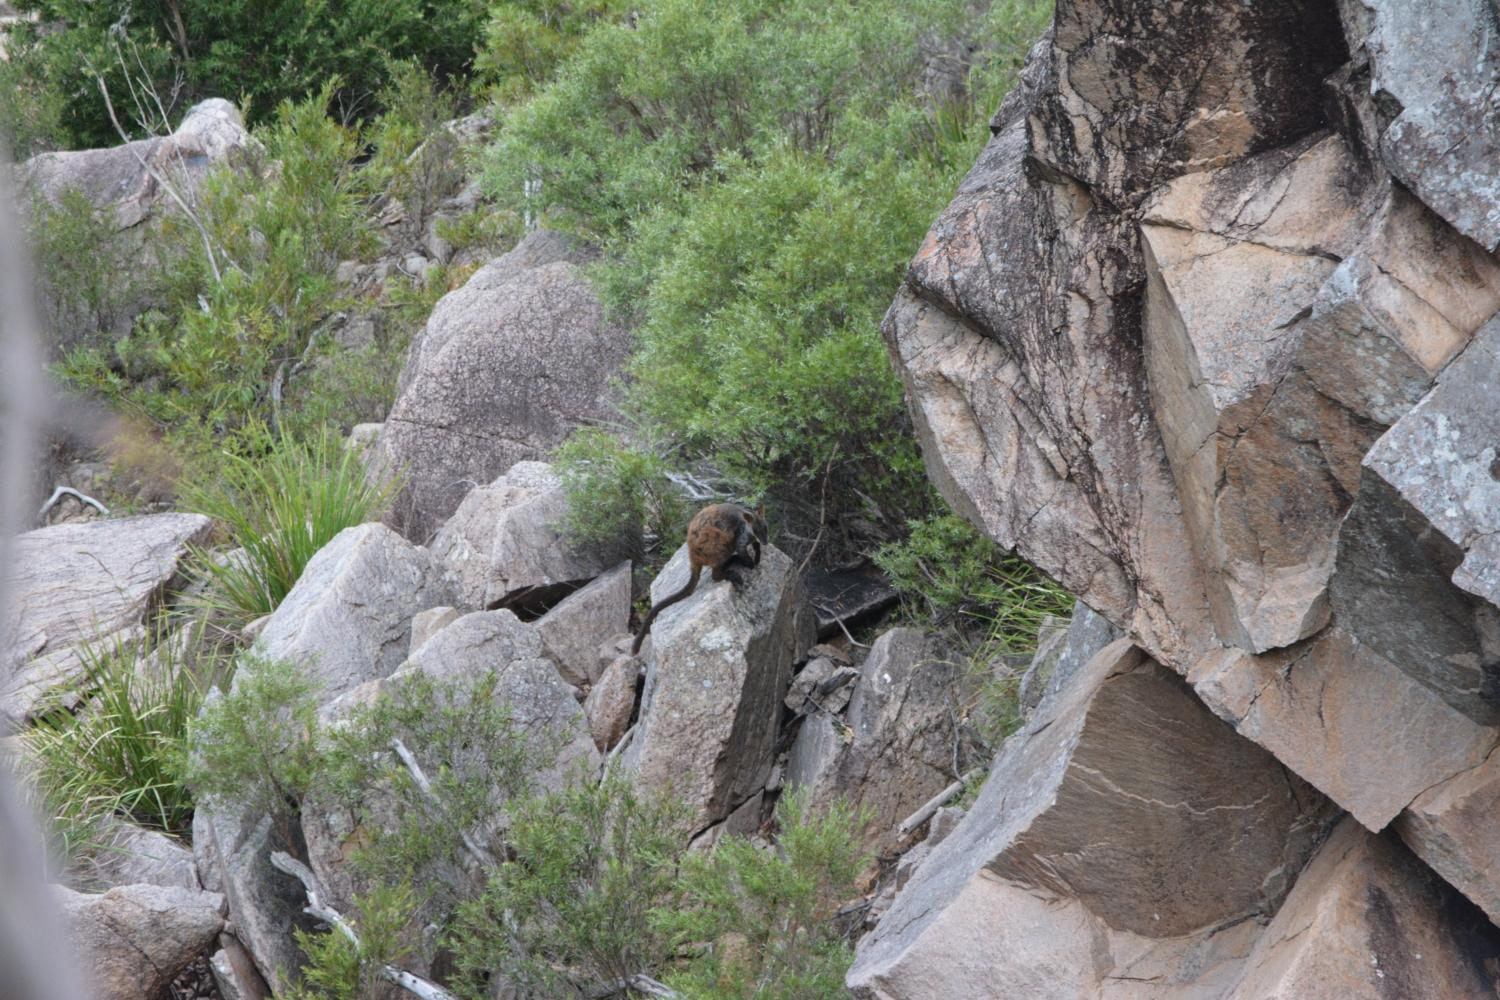Brush-tailed rock-wallaby: (628, 501, 776, 653)
